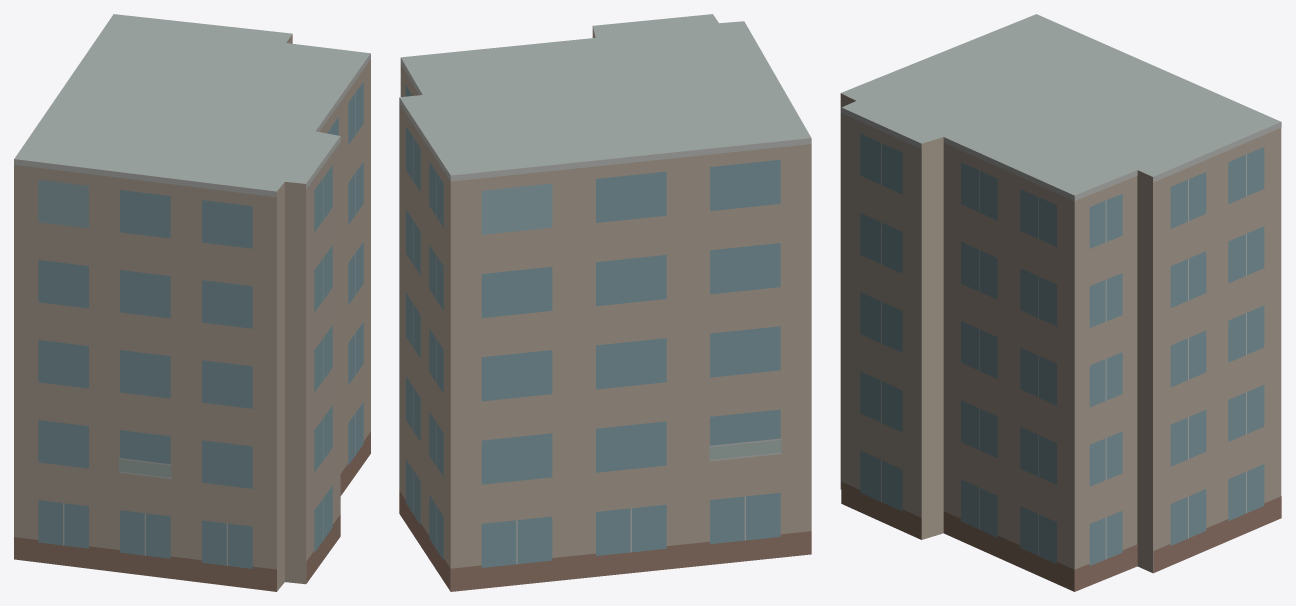
Rendered from survey-upis-32718897.glb.
The picture shows the model from 3 angles, left to right: view 1: azimuth 30°, elevation 25°; view 2: azimuth 150°, elevation 25°; view 3: azimuth 270°, elevation 25°; orthographic projection. The views are drawn at different scales.
Visible parts, largest first — view 1: survey-upis-32718897.tmp; view 2: survey-upis-32718897.tmp; view 3: survey-upis-32718897.tmp.
Part boxes in pixels (<box>): survey-upis-32718897.tmp: <box>14,14,370,591</box>; survey-upis-32718897.tmp: <box>399,14,811,591</box>; survey-upis-32718897.tmp: <box>840,14,1281,591</box>.
Size of the model in its own units: 16.81 by 17.1 by 17.25.
